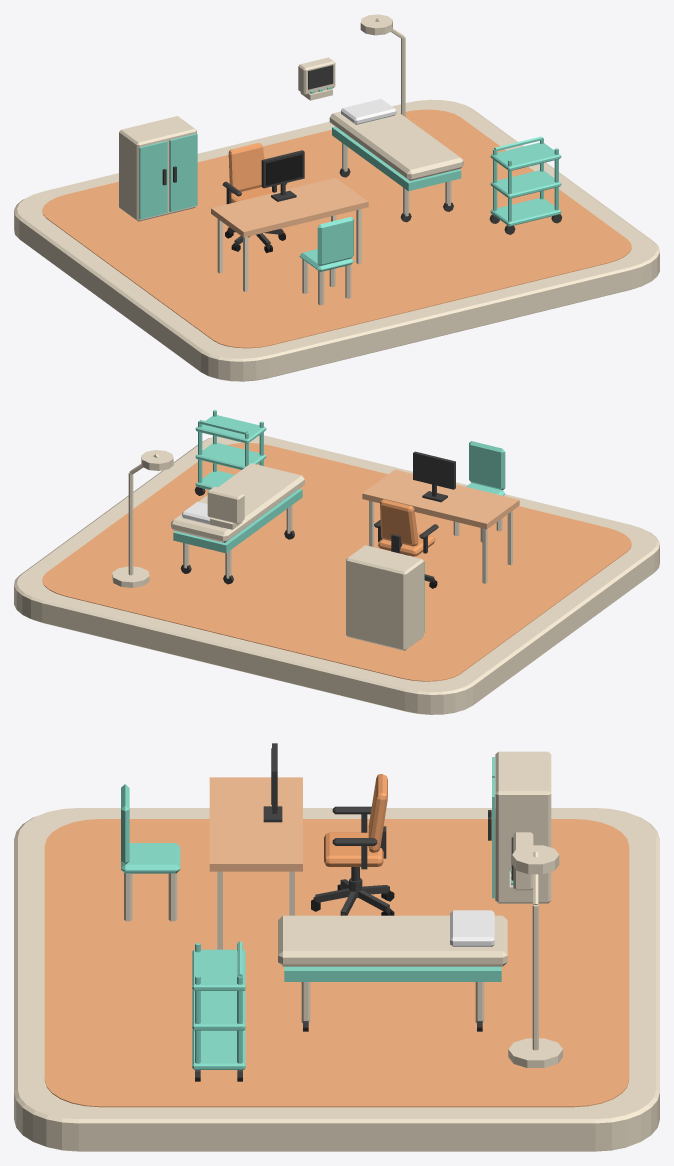
File: room.fbx
The picture shows the model from 3 angles, top to bottom: view 1: azimuth 30°, elevation 25°; view 2: azimuth 150°, elevation 25°; view 3: azimuth 270°, elevation 25°; orthographic projection. The views are drawn at different scales.
Visible parts, largest first — view 1: COM-02 Floor Surface, COM-01 Rounded Base Direct, Top, Mattress, Equipment case, COM-04_Chair_blender_direct, Door, Door.001, Backrest, Frame, Base, Tray.002 (+5 smaller); view 2: COM-02 Floor Surface, COM-01 Rounded Base Direct, Equipment case, Top, Mattress, COM-04_Chair_blender_direct, Backrest, Frame, Base, Housing, Tray.001, Tray.002 (+4 smaller); view 3: COM-02 Floor Surface, COM-01 Rounded Base Direct, Mattress, Top, Equipment case, COM-04_Chair_blender_direct, Base, Tray.002, Tray.001, Tray, Seat, Pillow (+6 smaller).
Part boxes in pixels (<box>): COM-02 Floor Surface: <box>42,109,631,348</box>; COM-01 Rounded Base Direct: <box>14,99,659,381</box>; Top: <box>211,178,368,291</box>; Mattress: <box>329,111,463,180</box>; Equipment case: <box>119,116,196,221</box>; COM-04_Chair_blender_direct: <box>222,143,286,252</box>; Door: <box>139,141,167,219</box>; Door.001: <box>169,133,197,211</box>; Backrest: <box>317,217,353,265</box>; Frame: <box>261,150,304,201</box>; Base: <box>332,126,461,191</box>; Tray.002: <box>490,142,561,171</box>; COM-02 Floor Surface: <box>42,443,631,681</box>; COM-01 Rounded Base Direct: <box>14,435,659,714</box>; Equipment case: <box>346,545,423,650</box>; Top: <box>362,469,519,583</box>; Mattress: <box>171,463,304,542</box>; COM-04_Chair_blender_direct: <box>374,499,438,588</box>; Backrest: <box>469,441,505,490</box>; Frame: <box>413,451,455,502</box>; Base: <box>173,488,302,553</box>; Housing: <box>207,486,244,524</box>; Tray.001: <box>195,443,266,469</box>; Tray.002: <box>195,415,266,443</box>; COM-02 Floor Surface: <box>44,819,629,1107</box>; COM-01 Rounded Base Direct: <box>14,808,659,1151</box>; Mattress: <box>278,915,507,966</box>; Top: <box>209,777,302,949</box>; Equipment case: <box>495,751,551,903</box>; COM-04_Chair_blender_direct: <box>311,774,394,915</box>; Base: <box>284,966,501,981</box>; Tray.002: <box>192,949,245,990</box>; Tray.001: <box>192,990,245,1030</box>; Tray: <box>192,1030,245,1069</box>; Seat: <box>121,843,180,873</box>; Pillow: <box>450,910,494,946</box>.
Bounding box in the file's own units: 600 × 196 × 520.
